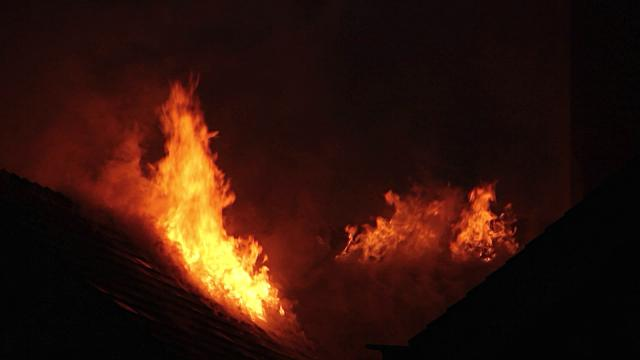fire: (103, 72, 304, 336), (347, 171, 527, 278)
